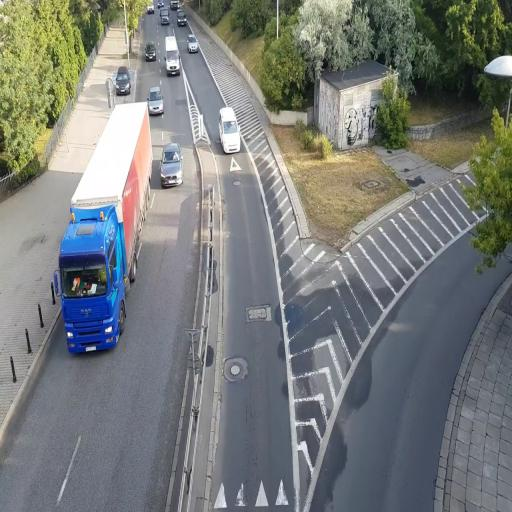vehicle: (54, 102, 152, 355), (218, 106, 240, 154), (160, 144, 183, 188), (164, 34, 181, 76), (148, 86, 164, 116), (114, 68, 131, 95), (158, 6, 171, 26), (186, 35, 198, 54), (144, 43, 156, 62), (177, 14, 187, 27)
